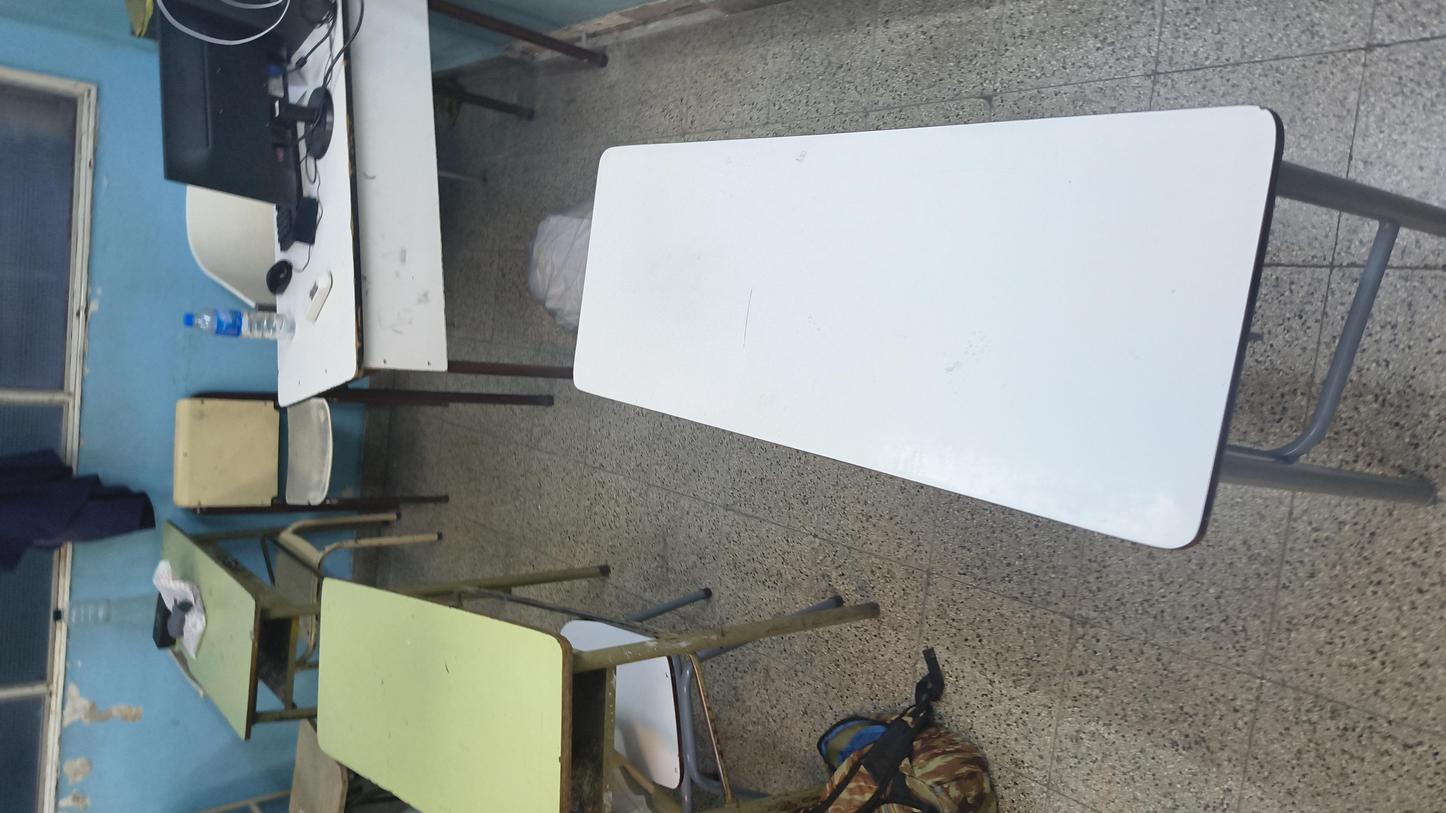Garbage: (835, 280, 1105, 345)
